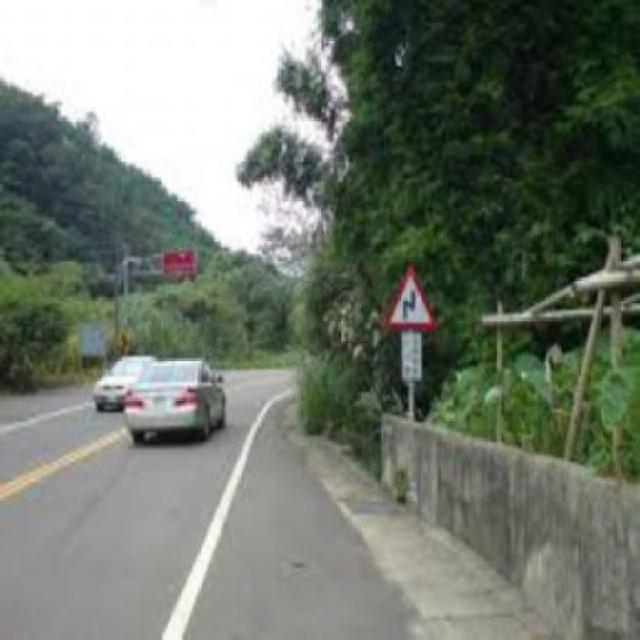warn_double_curve: (386, 266, 439, 332)
